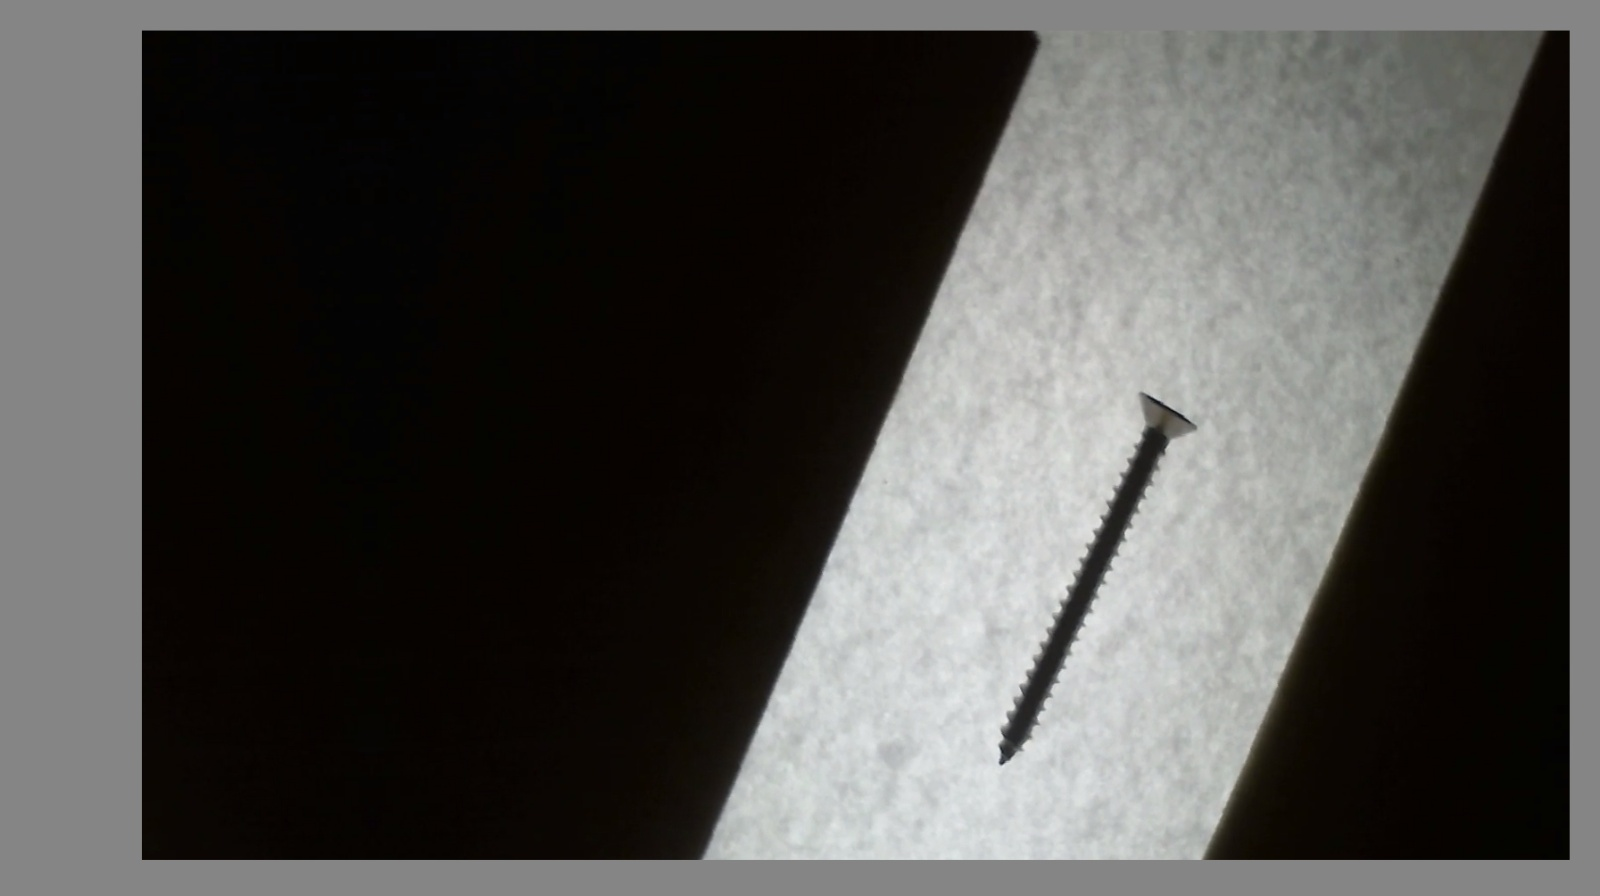S002: (988, 385, 1204, 770)
